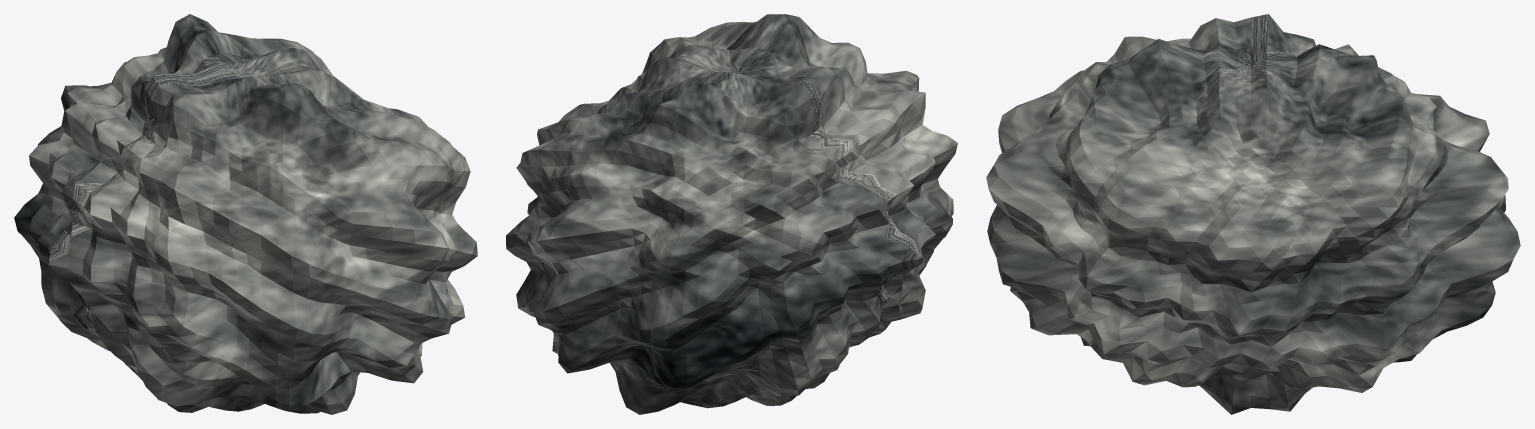
The model's file is large_03.glb.
3 renders of one model, left to right at view 1: azimuth 30°, elevation 25°; view 2: azimuth 150°, elevation 25°; view 3: azimuth 270°, elevation 25°, orthographic. The views are drawn at different scales.
Visible parts, largest first — view 1: rock; view 2: rock; view 3: rock.
Part boxes in pixels (x1=…): rock: x1=14, y1=14, x2=477, y2=414; rock: x1=506, y1=14, x2=957, y2=414; rock: x1=986, y1=14, x2=1520, y2=414.
Bounding box in the file's own units: 5.8 × 4.91 × 6.97.
Materials: 1 (1 with a texture image).
